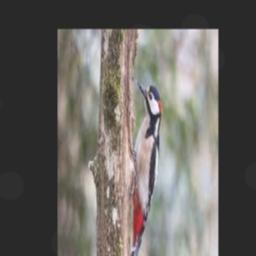Woodpecker: (129, 80, 161, 256)
